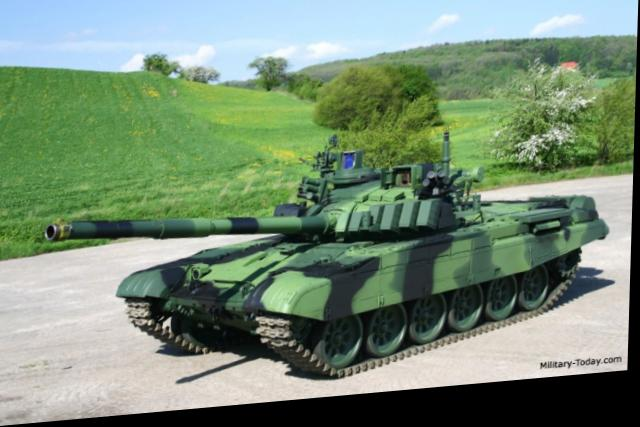tank: (126, 139, 603, 368)
